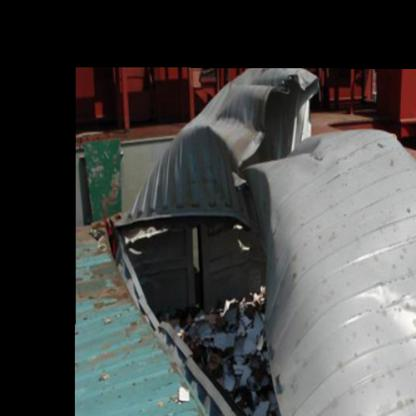Damage: (117, 211, 303, 411)
